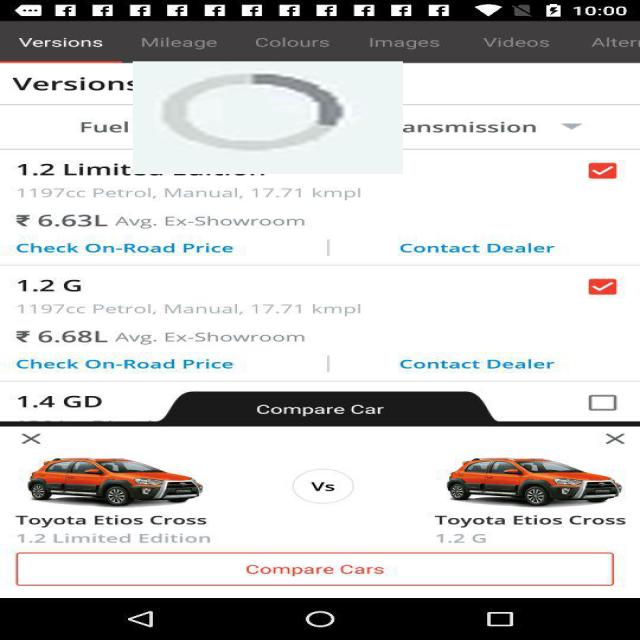misdirection: (133, 61, 403, 174)
